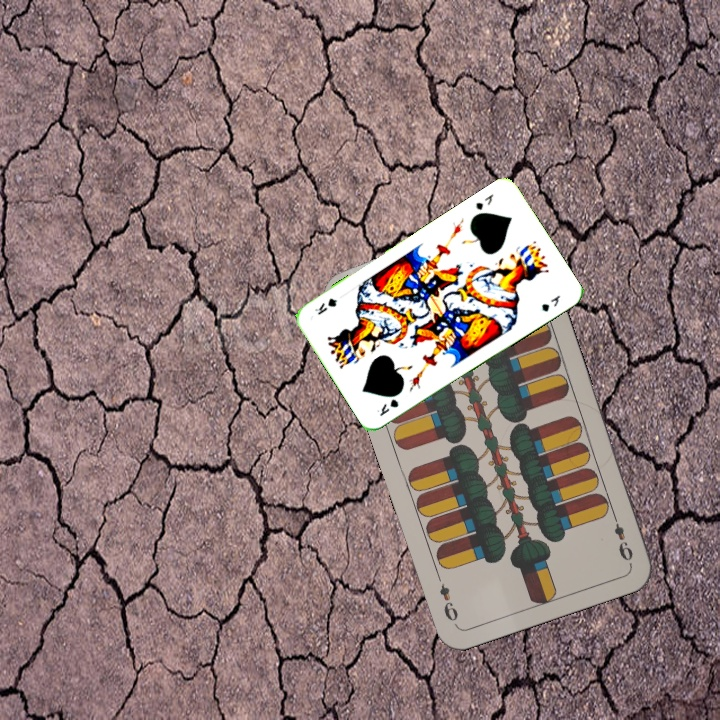E9: (608, 509, 636, 564)
GK: (373, 395, 401, 419), (472, 189, 496, 213)
